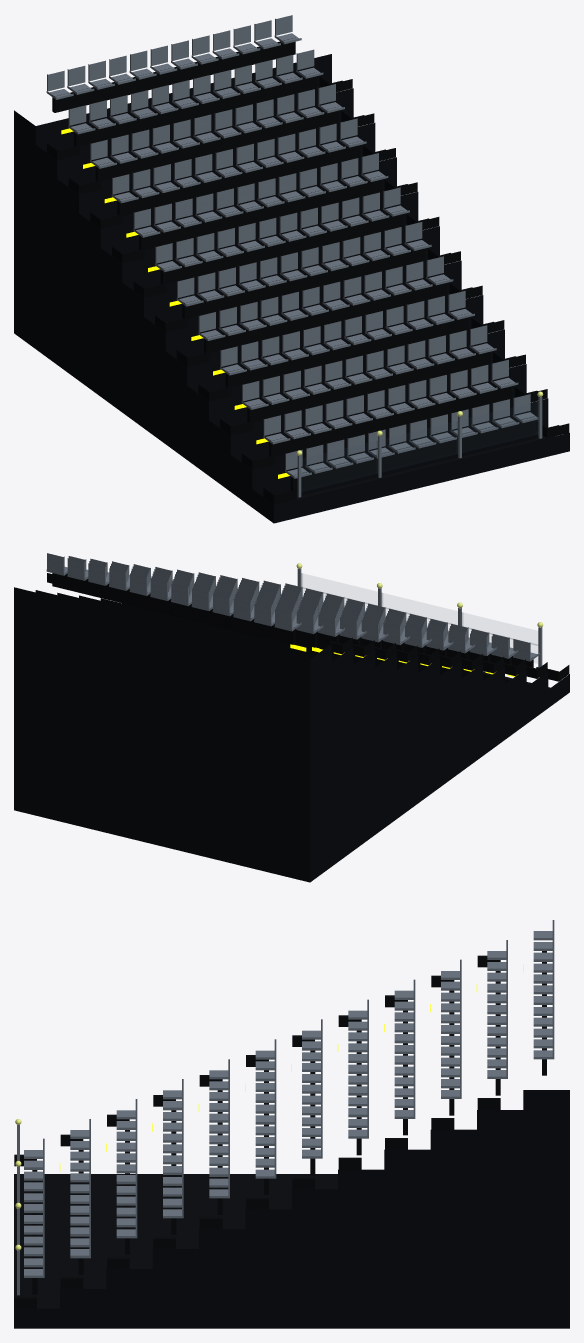
The picture shows the model from 3 angles, top to bottom: view 1: azimuth 30°, elevation 25°; view 2: azimuth 150°, elevation 25°; view 3: azimuth 270°, elevation 25°; orthographic projection. The views are drawn at different scales.
Parts seen in each view (by area): view 1: Tier_Concrete, Seat_Backs, Seat_Beams, Seat_Pans, Aisle_Steps, Rail_Posts, Guard_Glass; view 2: Tier_Concrete, Seat_Backs, Seat_Beams, Aisle_Steps, Seat_Pans, Rail_Posts; view 3: Tier_Concrete, Seat_Pans, Aisle_Steps, Seat_Backs, Seat_Beams.
Boxes of the visible parts, x1,y1,x2,y2 form: Tier_Concrete: [14, 54, 569, 523]; Seat_Backs: [47, 15, 530, 470]; Seat_Beams: [52, 37, 533, 490]; Seat_Pans: [46, 33, 538, 478]; Aisle_Steps: [47, 77, 569, 504]; Rail_Posts: [297, 396, 542, 497]; Guard_Glass: [301, 401, 538, 473]; Tier_Concrete: [14, 587, 569, 882]; Seat_Backs: [47, 553, 530, 659]; Seat_Beams: [52, 573, 533, 667]; Aisle_Steps: [47, 573, 569, 681]; Seat_Pans: [46, 567, 539, 661]; Rail_Posts: [297, 568, 542, 667]; Tier_Concrete: [14, 1090, 569, 1328]; Seat_Pans: [24, 931, 554, 1277]; Aisle_Steps: [14, 955, 500, 1308]; Seat_Backs: [43, 920, 554, 1275]; Seat_Beams: [32, 951, 546, 1294].
Size of the model in its own units: 7.5 by 6.25 by 11.4.
6 materials, 4 textured.
